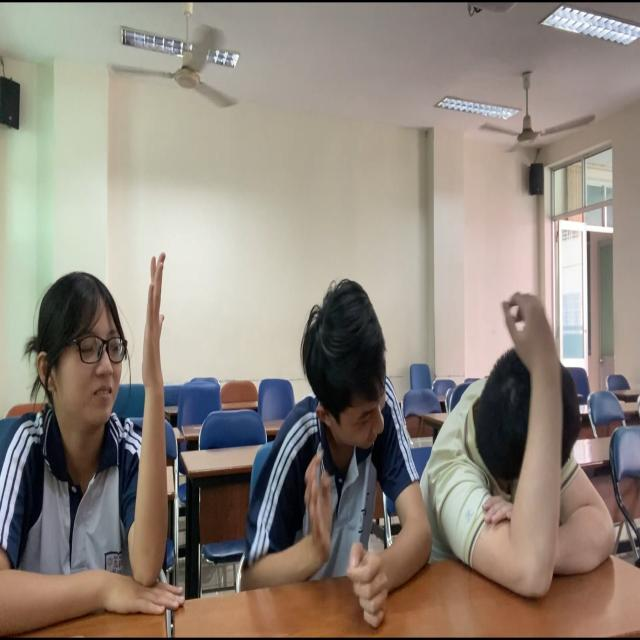raise_hand: (1, 247, 186, 639)
